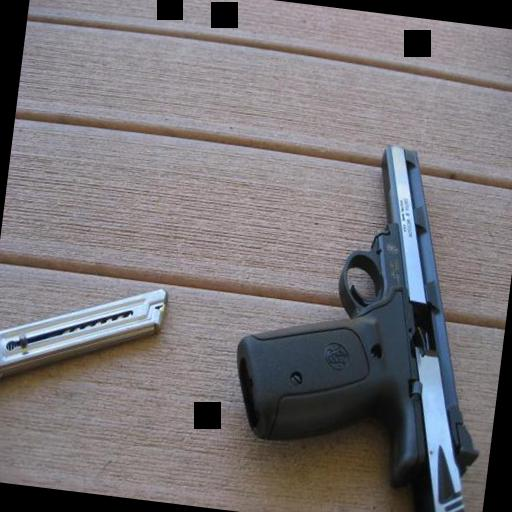Handgun: (212, 125, 512, 512)
